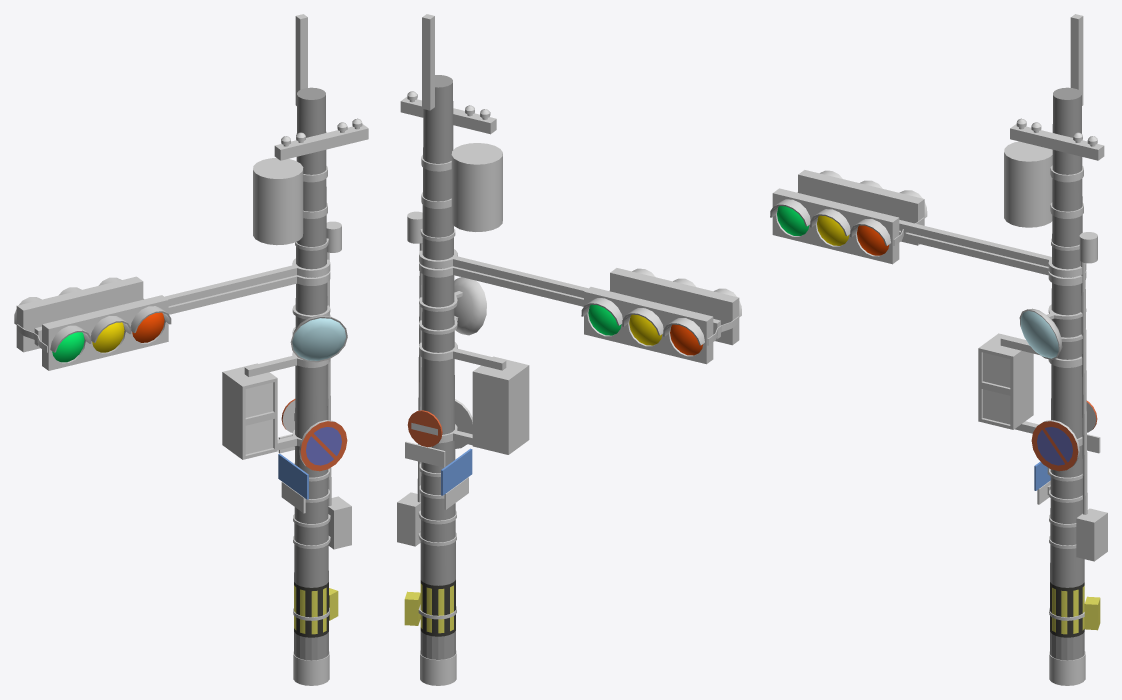
The model's file is SmallTelephonePole.fbx.
The picture shows the model from 3 angles, left to right: view 1: azimuth 30°, elevation 25°; view 2: azimuth 150°, elevation 25°; view 3: azimuth 330°, elevation 25°; orthographic projection. The views are drawn at different scales.
Parts seen in each view (by area): view 1: Pole, StoplightFront, CrosswalkSignal, Transformer, StoplightBack, StoplightBeam, ElectricalBox, Mirror, NoParkingSign, Crossarm, OneWaySign, TopPiece (+1 smaller); view 2: Pole, StoplightBack, CrosswalkSignal, Transformer, StoplightFront, StoplightBeam, ElectricalBox, Mirror, NoEntrySign, OneWaySign, Crossarm, TopPiece (+3 smaller); view 3: Pole, StoplightFront, CrosswalkSignal, Transformer, ElectricalBox, StoplightBeam, StoplightBack, NoParkingSign, Mirror, Crossarm, TopPiece, Base (+2 smaller).
Boxes of the visible parts, bbox=[...] form: Pole: bbox=[294, 87, 328, 660]; StoplightFront: bbox=[42, 295, 171, 370]; CrosswalkSignal: bbox=[222, 352, 330, 459]; Transformer: bbox=[253, 158, 327, 245]; StoplightBack: bbox=[14, 276, 143, 352]; StoplightBeam: bbox=[17, 258, 330, 352]; ElectricalBox: bbox=[293, 221, 351, 549]; Mirror: bbox=[290, 304, 347, 362]; NoParkingSign: bbox=[299, 420, 347, 471]; Crossarm: bbox=[274, 118, 368, 160]; OneWaySign: bbox=[278, 453, 329, 513]; TopPiece: bbox=[295, 14, 307, 105]; Pole: bbox=[420, 75, 455, 659]; StoplightBack: bbox=[581, 287, 713, 364]; CrosswalkSignal: bbox=[419, 342, 529, 454]; Transformer: bbox=[421, 143, 502, 231]; StoplightFront: bbox=[610, 268, 741, 345]; StoplightBeam: bbox=[419, 249, 739, 345]; ElectricalBox: bbox=[397, 211, 456, 546]; Mirror: bbox=[419, 277, 486, 335]; NoEntrySign: bbox=[405, 410, 445, 467]; OneWaySign: bbox=[419, 448, 472, 509]; Crossarm: bbox=[400, 91, 496, 134]; TopPiece: bbox=[422, 14, 434, 110]; Pole: bbox=[1050, 87, 1084, 660]; StoplightFront: bbox=[770, 188, 899, 264]; CrosswalkSignal: bbox=[978, 333, 1082, 446]; Transformer: bbox=[1004, 141, 1083, 227]; ElectricalBox: bbox=[1049, 232, 1107, 561]; StoplightBeam: bbox=[797, 192, 1086, 285]; StoplightBack: bbox=[798, 170, 927, 245]; NoParkingSign: bbox=[1031, 420, 1079, 471]; Mirror: bbox=[1019, 304, 1086, 359]; Crossarm: bbox=[1010, 118, 1104, 160]; TopPiece: bbox=[1070, 14, 1083, 105]; Base: bbox=[1049, 651, 1085, 685].
Size of the model in its own units: 370 by 714 by 93.28.
